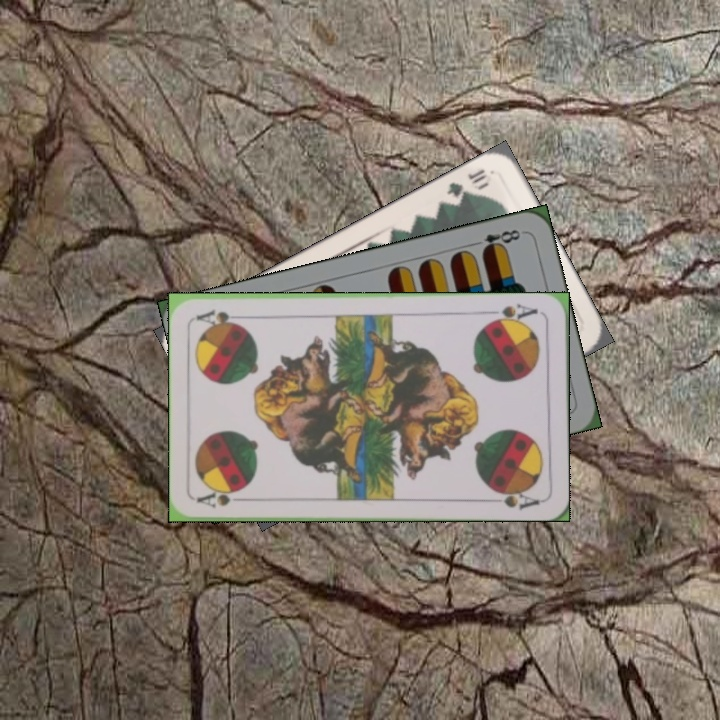E8: (468, 225, 523, 256)
G10: (442, 164, 490, 203)
SA: (483, 299, 540, 326), (194, 486, 253, 510)
